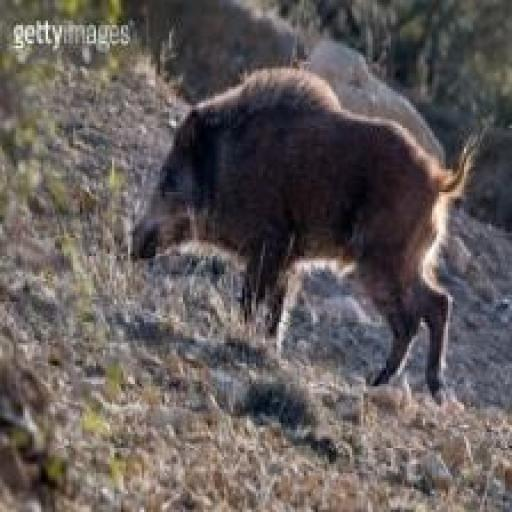Pig: (119, 64, 492, 421)
